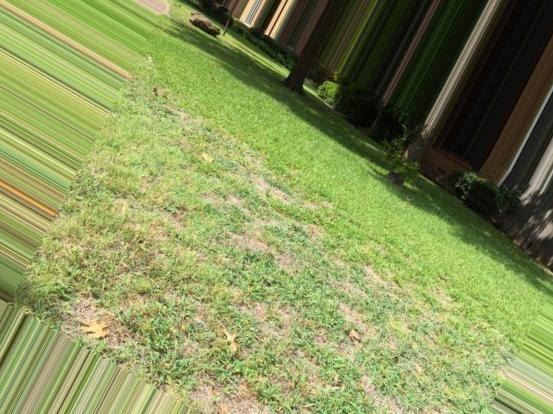patch: (174, 332, 300, 406), (216, 259, 306, 350), (101, 190, 210, 263), (119, 273, 236, 340), (303, 299, 395, 369), (412, 283, 490, 357), (304, 245, 397, 304), (149, 104, 233, 169), (219, 182, 299, 244), (77, 283, 142, 339)
